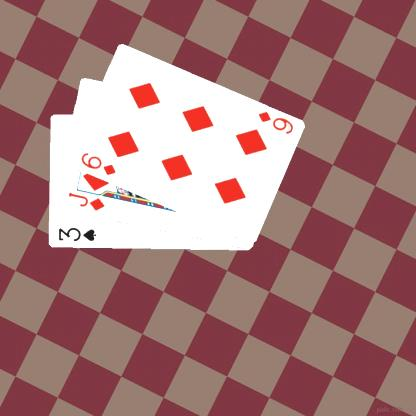3S: (55, 226, 97, 243)
6D: (255, 108, 294, 136), (77, 150, 117, 177)
JD: (65, 189, 106, 213)
